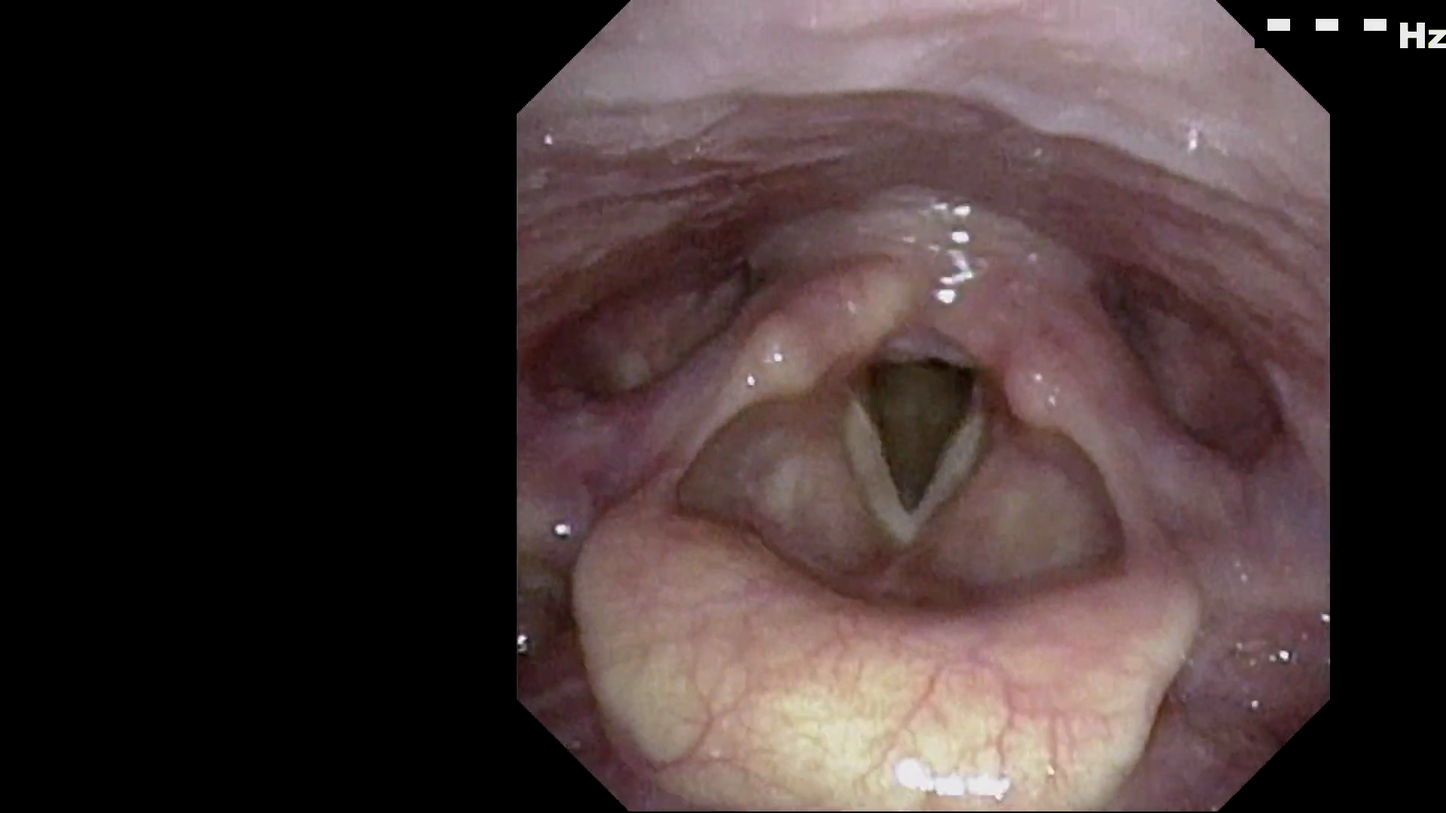epiglottis: (571, 503, 1209, 747)
trachea: (838, 330, 1017, 555)
